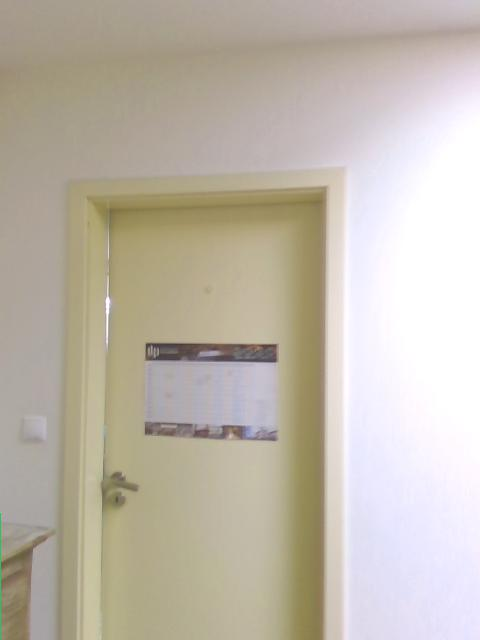closed_door: (57, 166, 348, 639)
